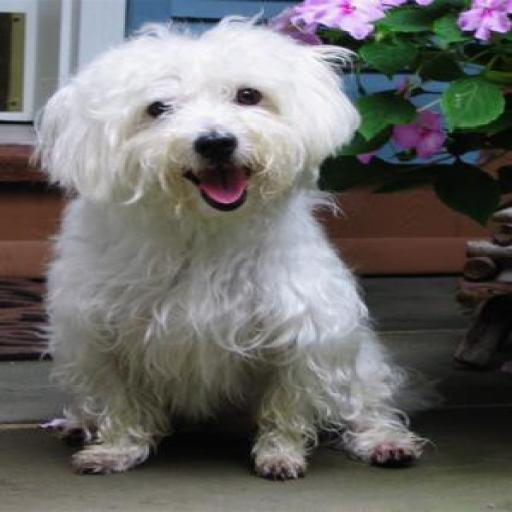dog_face: (38, 30, 354, 224)
